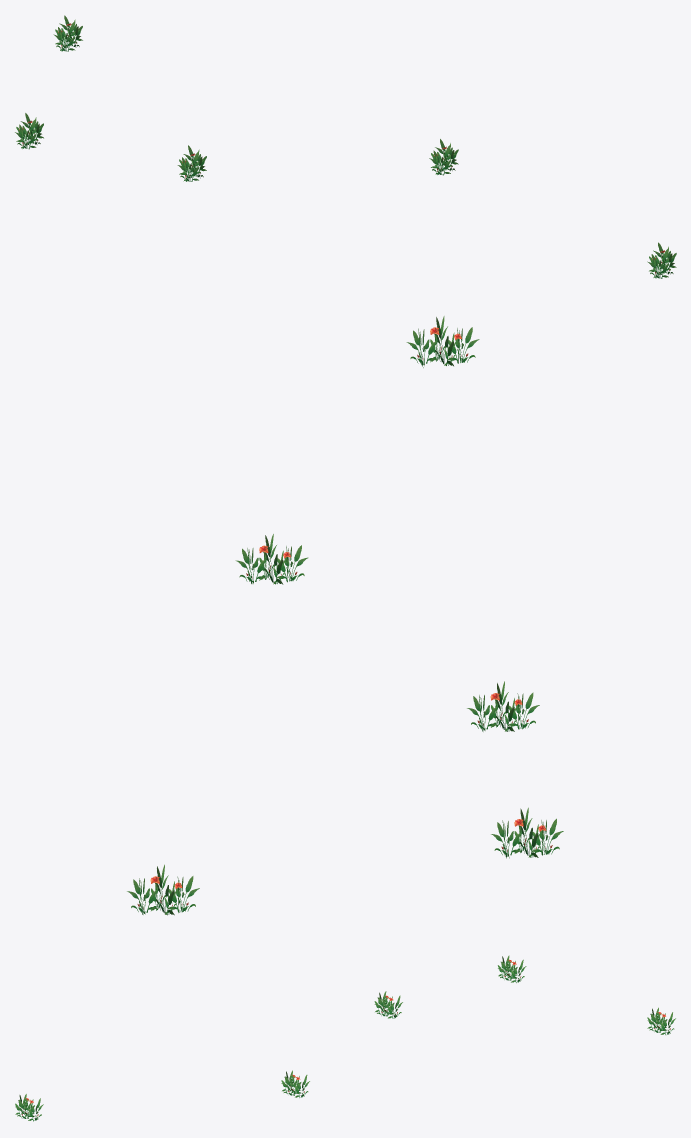
Rendered from area_03_2.FBX.
The picture shows the model from 3 angles, top to bottom: view 1: azimuth 30°, elevation 25°; view 2: azimuth 150°, elevation 25°; view 3: azimuth 270°, elevation 25°; orthographic projection. The views are drawn at different scales.
Visible parts, largest first — view 1: area_03_2; view 2: area_03_2; view 3: area_03_2.
Boxes of the visible parts, <box> form: area_03_2: <box>15,15,676,278</box>; area_03_2: <box>127,316,563,915</box>; area_03_2: <box>15,955,675,1121</box>.
Size of the model in its own units: 23.25 by 1.55 by 43.06.
